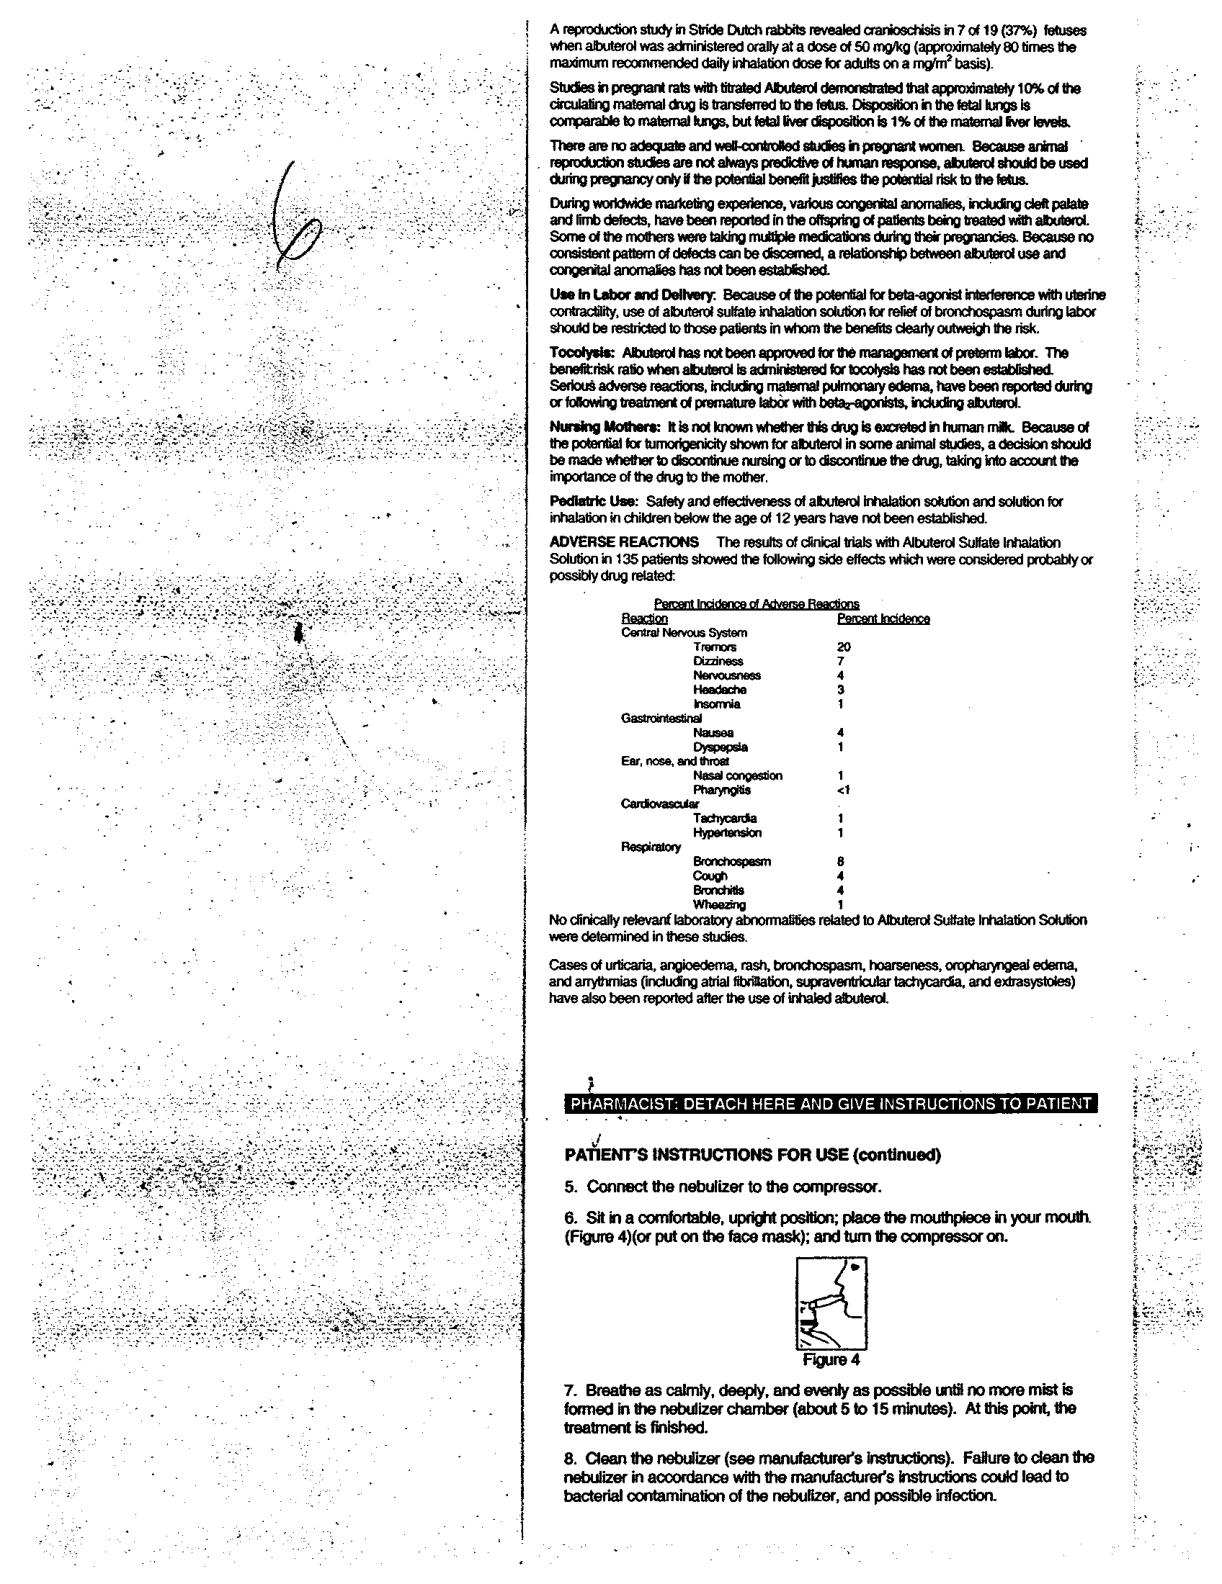nolines: (619, 614, 932, 911)
